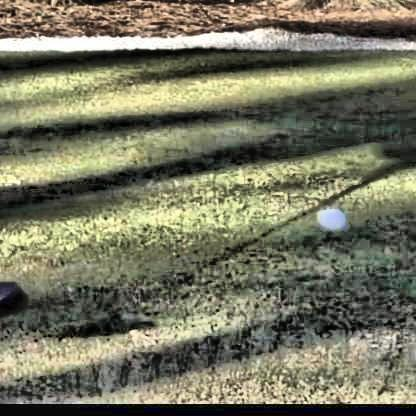golfball: (314, 204, 343, 232)
